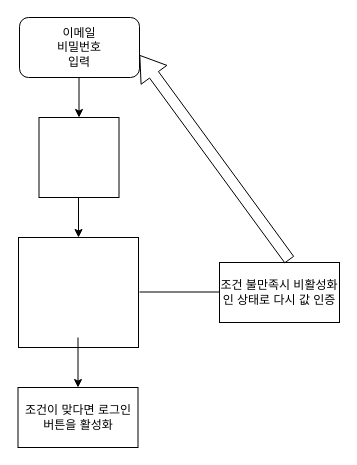
Some shapes in this 357 by 465 pixel diagram are drawn without their labels. The shapes that lost their labels are listed below. From the top down, each one's centre as x and y in pixels, then its label:
the point at 78,157: 검증시작
the point at 78,292: 조건확인 이메일: 공백이 아니고 @를 끼고있음 비밀번호:공백이 아니고 8자리 이상
